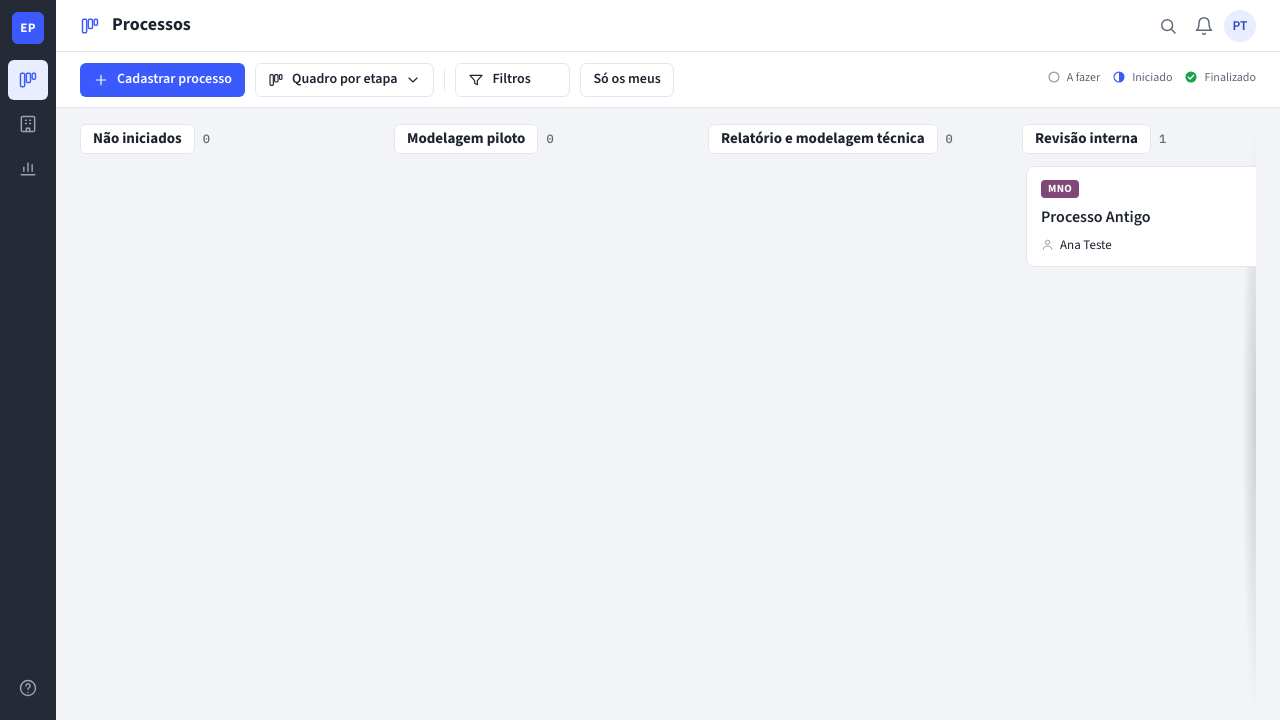
no agrupamento por setor, a coluna não leva cor de setor, e a coluna inativa traz a marca Inativo
The width and height of the screenshot is (1280, 720).
Step 1. Click the button "Quadro por etapa" → (345, 80), box [255,62,434,96]
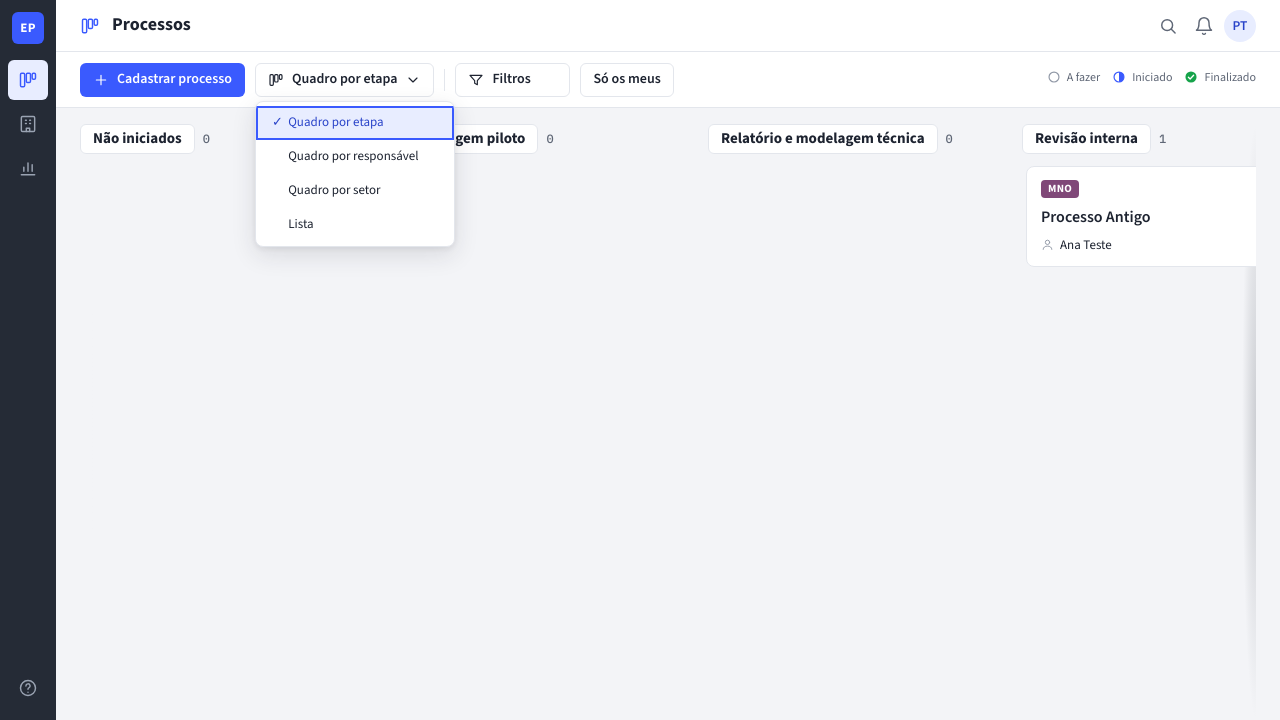
Step 2. Click the menu item "Quadro por setor" → (355, 190), box [256,174,454,208]
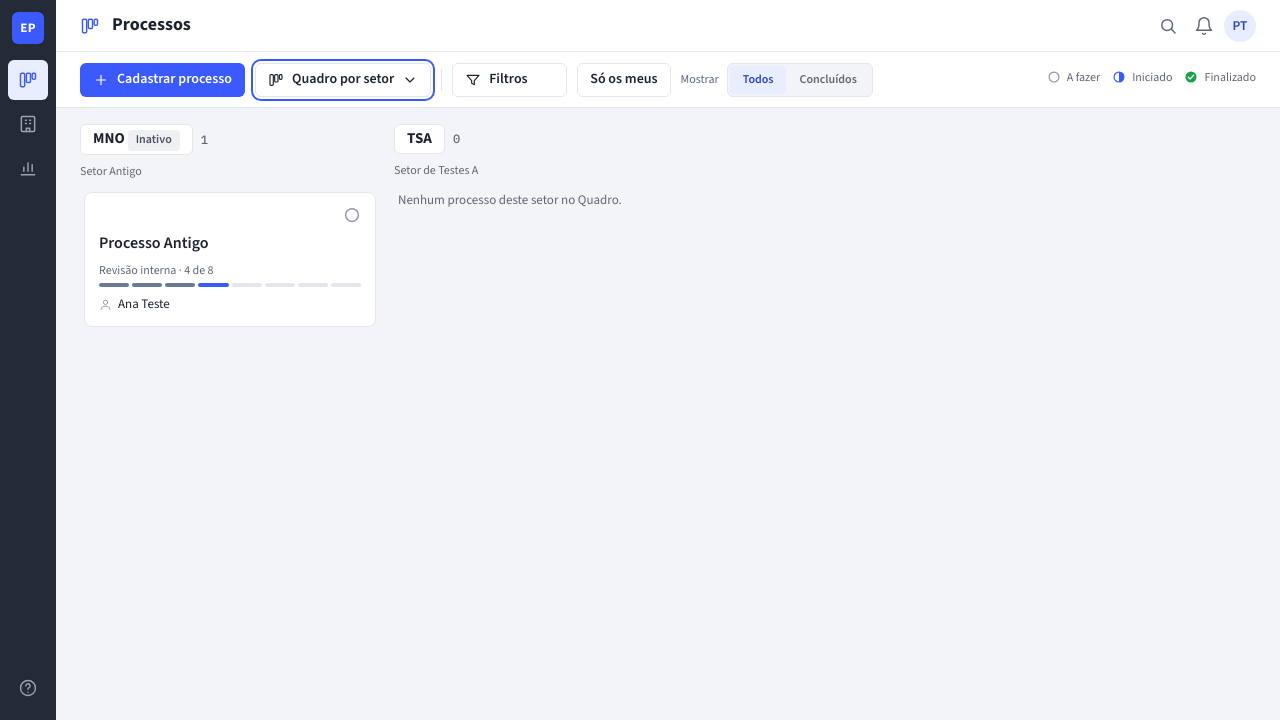
Expected: the text "Inativo" is shown, [128,130,180,151]
Expected: the text "Setor Antigo" is shown, [80,163,142,180]
Expected: the picture with class "selo-do-setor" is gone
